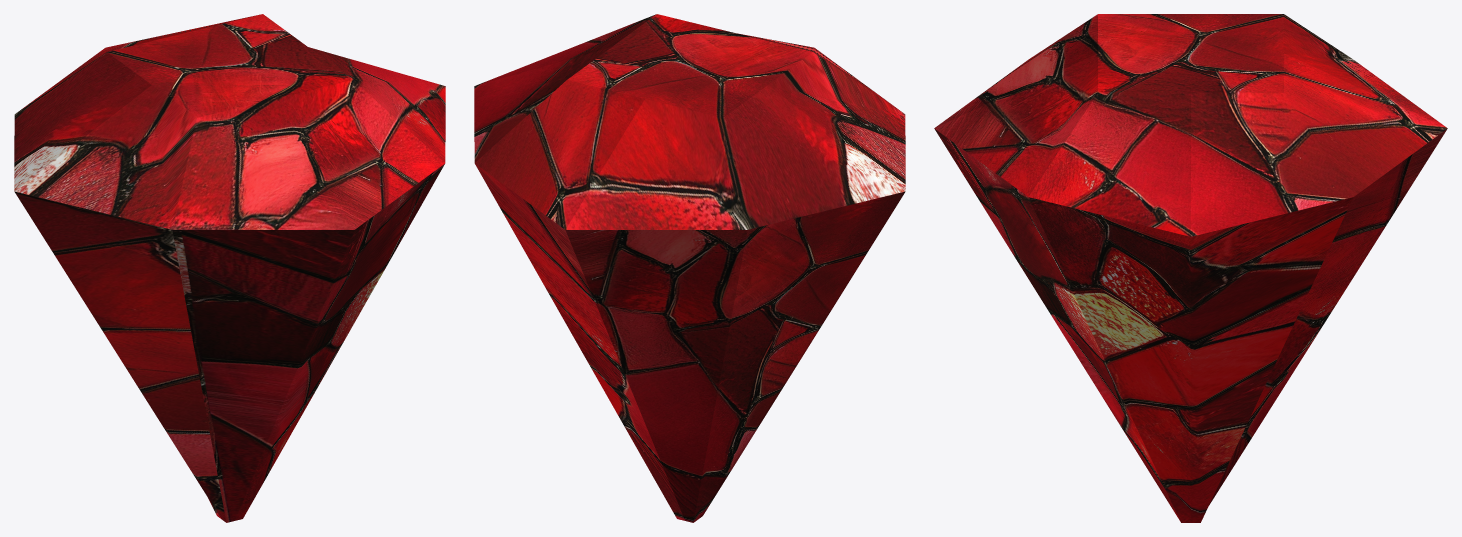
File: gemstone3Red.glb
3 views of the same model, side by side, from view 1: azimuth 30°, elevation 25°; view 2: azimuth 150°, elevation 25°; view 3: azimuth 270°, elevation 25° (orthographic). The views are drawn at different scales.
Parts seen in each view (by area): view 1: gemstone2; view 2: gemstone2; view 3: gemstone2.
Part boxes in pixels (x1=…): gemstone2: x1=14, y1=14, x2=445, y2=522; gemstone2: x1=474, y1=14, x2=905, y2=522; gemstone2: x1=934, y1=14, x2=1447, y2=522.
Bounding box in the file's own units: 1 × 1 × 1.
1 material, 1 textured.
